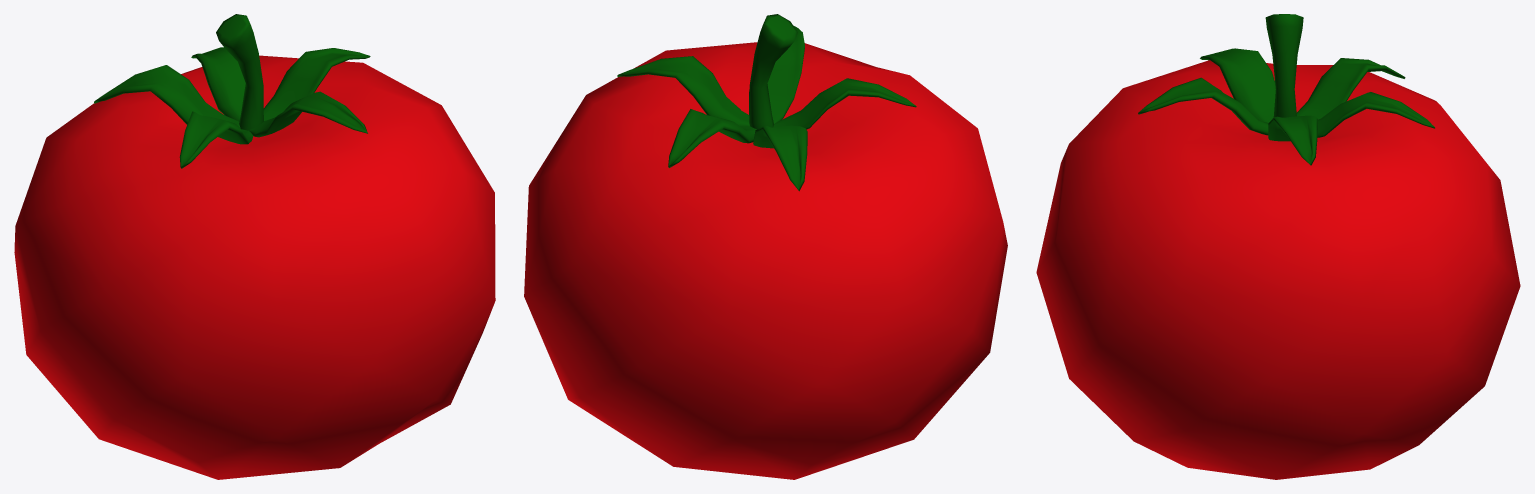
File: tomate.fbx
3 views of the same model, side by side, from view 1: azimuth 30°, elevation 25°; view 2: azimuth 150°, elevation 25°; view 3: azimuth 270°, elevation 25° (orthographic).
Parts seen in each view (by area): view 1: Cube, Cube.001, Cube.006; view 2: Cube, Cube.001, Cube.006; view 3: Cube, Cube.001, Cube.006.
Part boxes in pixels (<box>): Cube: <box>14,55,495,479</box>; Cube.001: <box>94,47,370,168</box>; Cube.006: <box>216,14,263,130</box>; Cube: <box>524,42,1007,479</box>; Cube.001: <box>617,25,916,191</box>; Cube.006: <box>749,14,797,129</box>; Cube: <box>1036,60,1520,479</box>; Cube.001: <box>1138,48,1434,165</box>; Cube.006: <box>1265,14,1303,117</box>.
Size of the model in its own units: 190 by 187 by 189.
